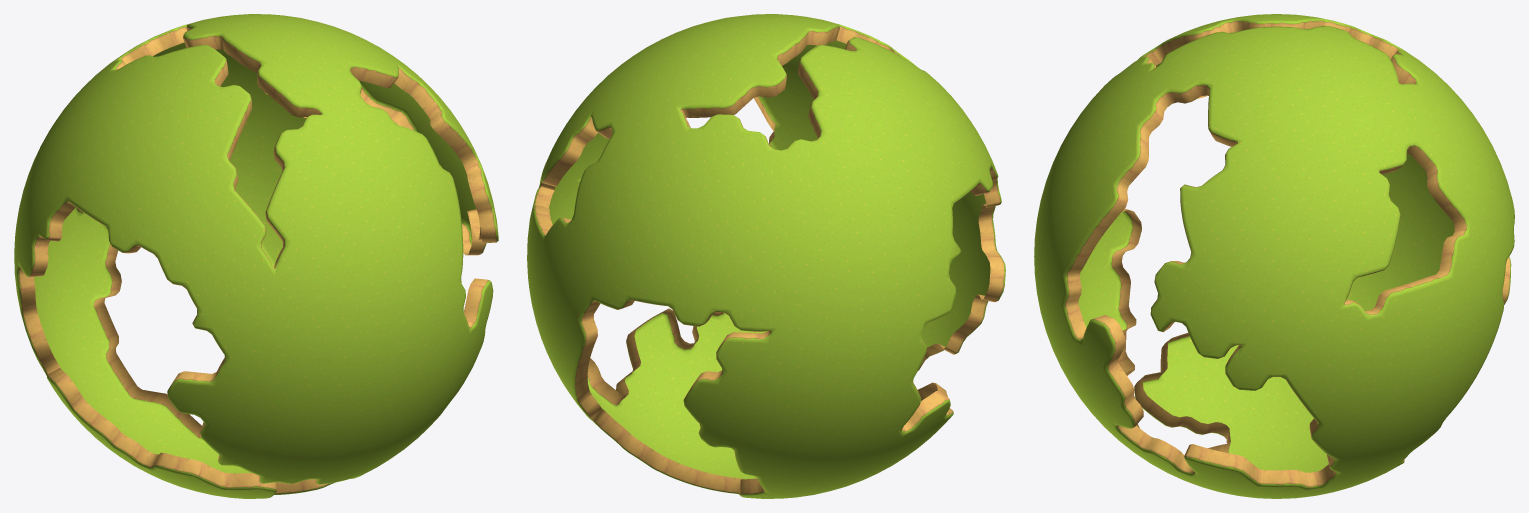
Rendered from planet_land_70%_smooth.fbx.
The picture shows the model from 3 angles, left to right: view 1: azimuth 30°, elevation 25°; view 2: azimuth 150°, elevation 25°; view 3: azimuth 270°, elevation 25°; orthographic projection.
Parts seen in each view (by area): view 1: planet_land_70%_smooth; view 2: planet_land_70%_smooth; view 3: planet_land_70%_smooth.
Boxes of the visible parts, x1=… form: planet_land_70%_smooth: x1=14, y1=14, x2=498, y2=498; planet_land_70%_smooth: x1=527, y1=14, x2=1005, y2=498; planet_land_70%_smooth: x1=1034, y1=14, x2=1514, y2=498.
Size of the model in its own units: 29.69 by 30 by 29.72.
